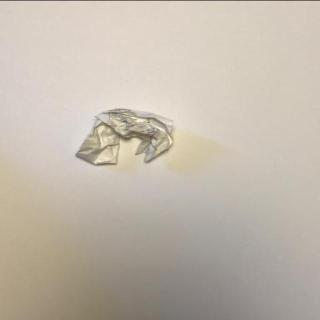Anorganik: (72, 105, 181, 173)
